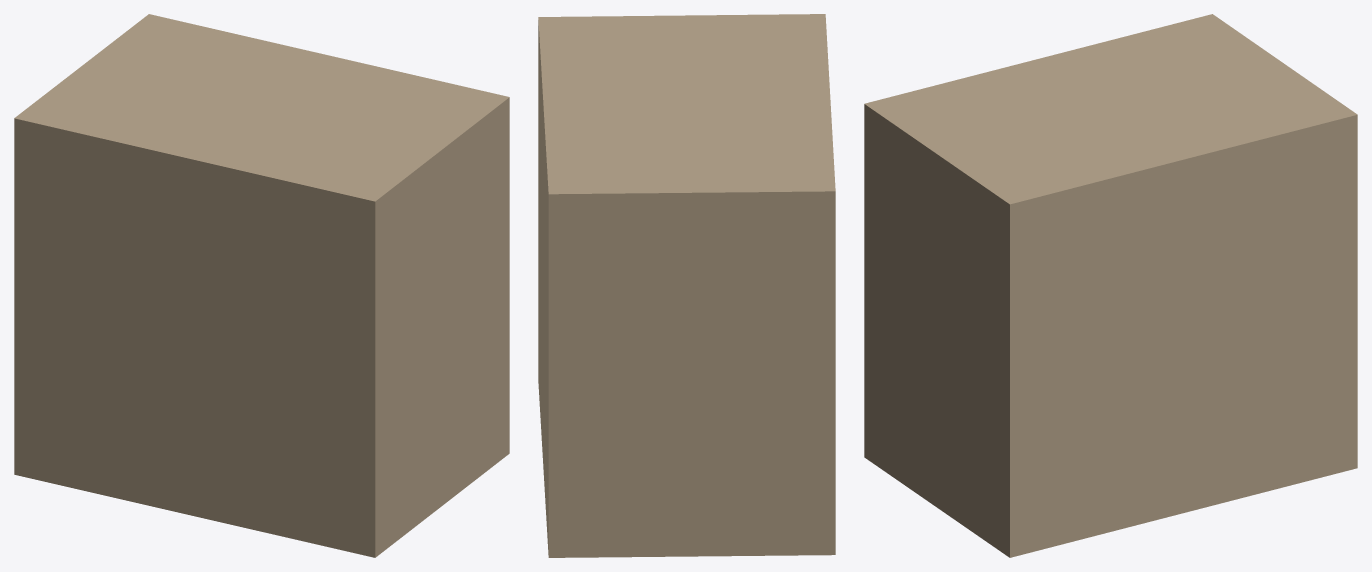
Rendered from bld_101289712.dae.
3 views of the same model, side by side, from view 1: azimuth 30°, elevation 25°; view 2: azimuth 150°, elevation 25°; view 3: azimuth 270°, elevation 25° (orthographic). The views are drawn at different scales.
Parts seen in each view (by area): view 1: bld_101289712; view 2: bld_101289712; view 3: bld_101289712.
Boxes of the visible parts, x1=… form: bld_101289712: x1=14, y1=14, x2=509, y2=557; bld_101289712: x1=538, y1=14, x2=835, y2=557; bld_101289712: x1=864, y1=14, x2=1357, y2=557.
Size of the model in its own units: 9.24 by 10.12 by 8.
